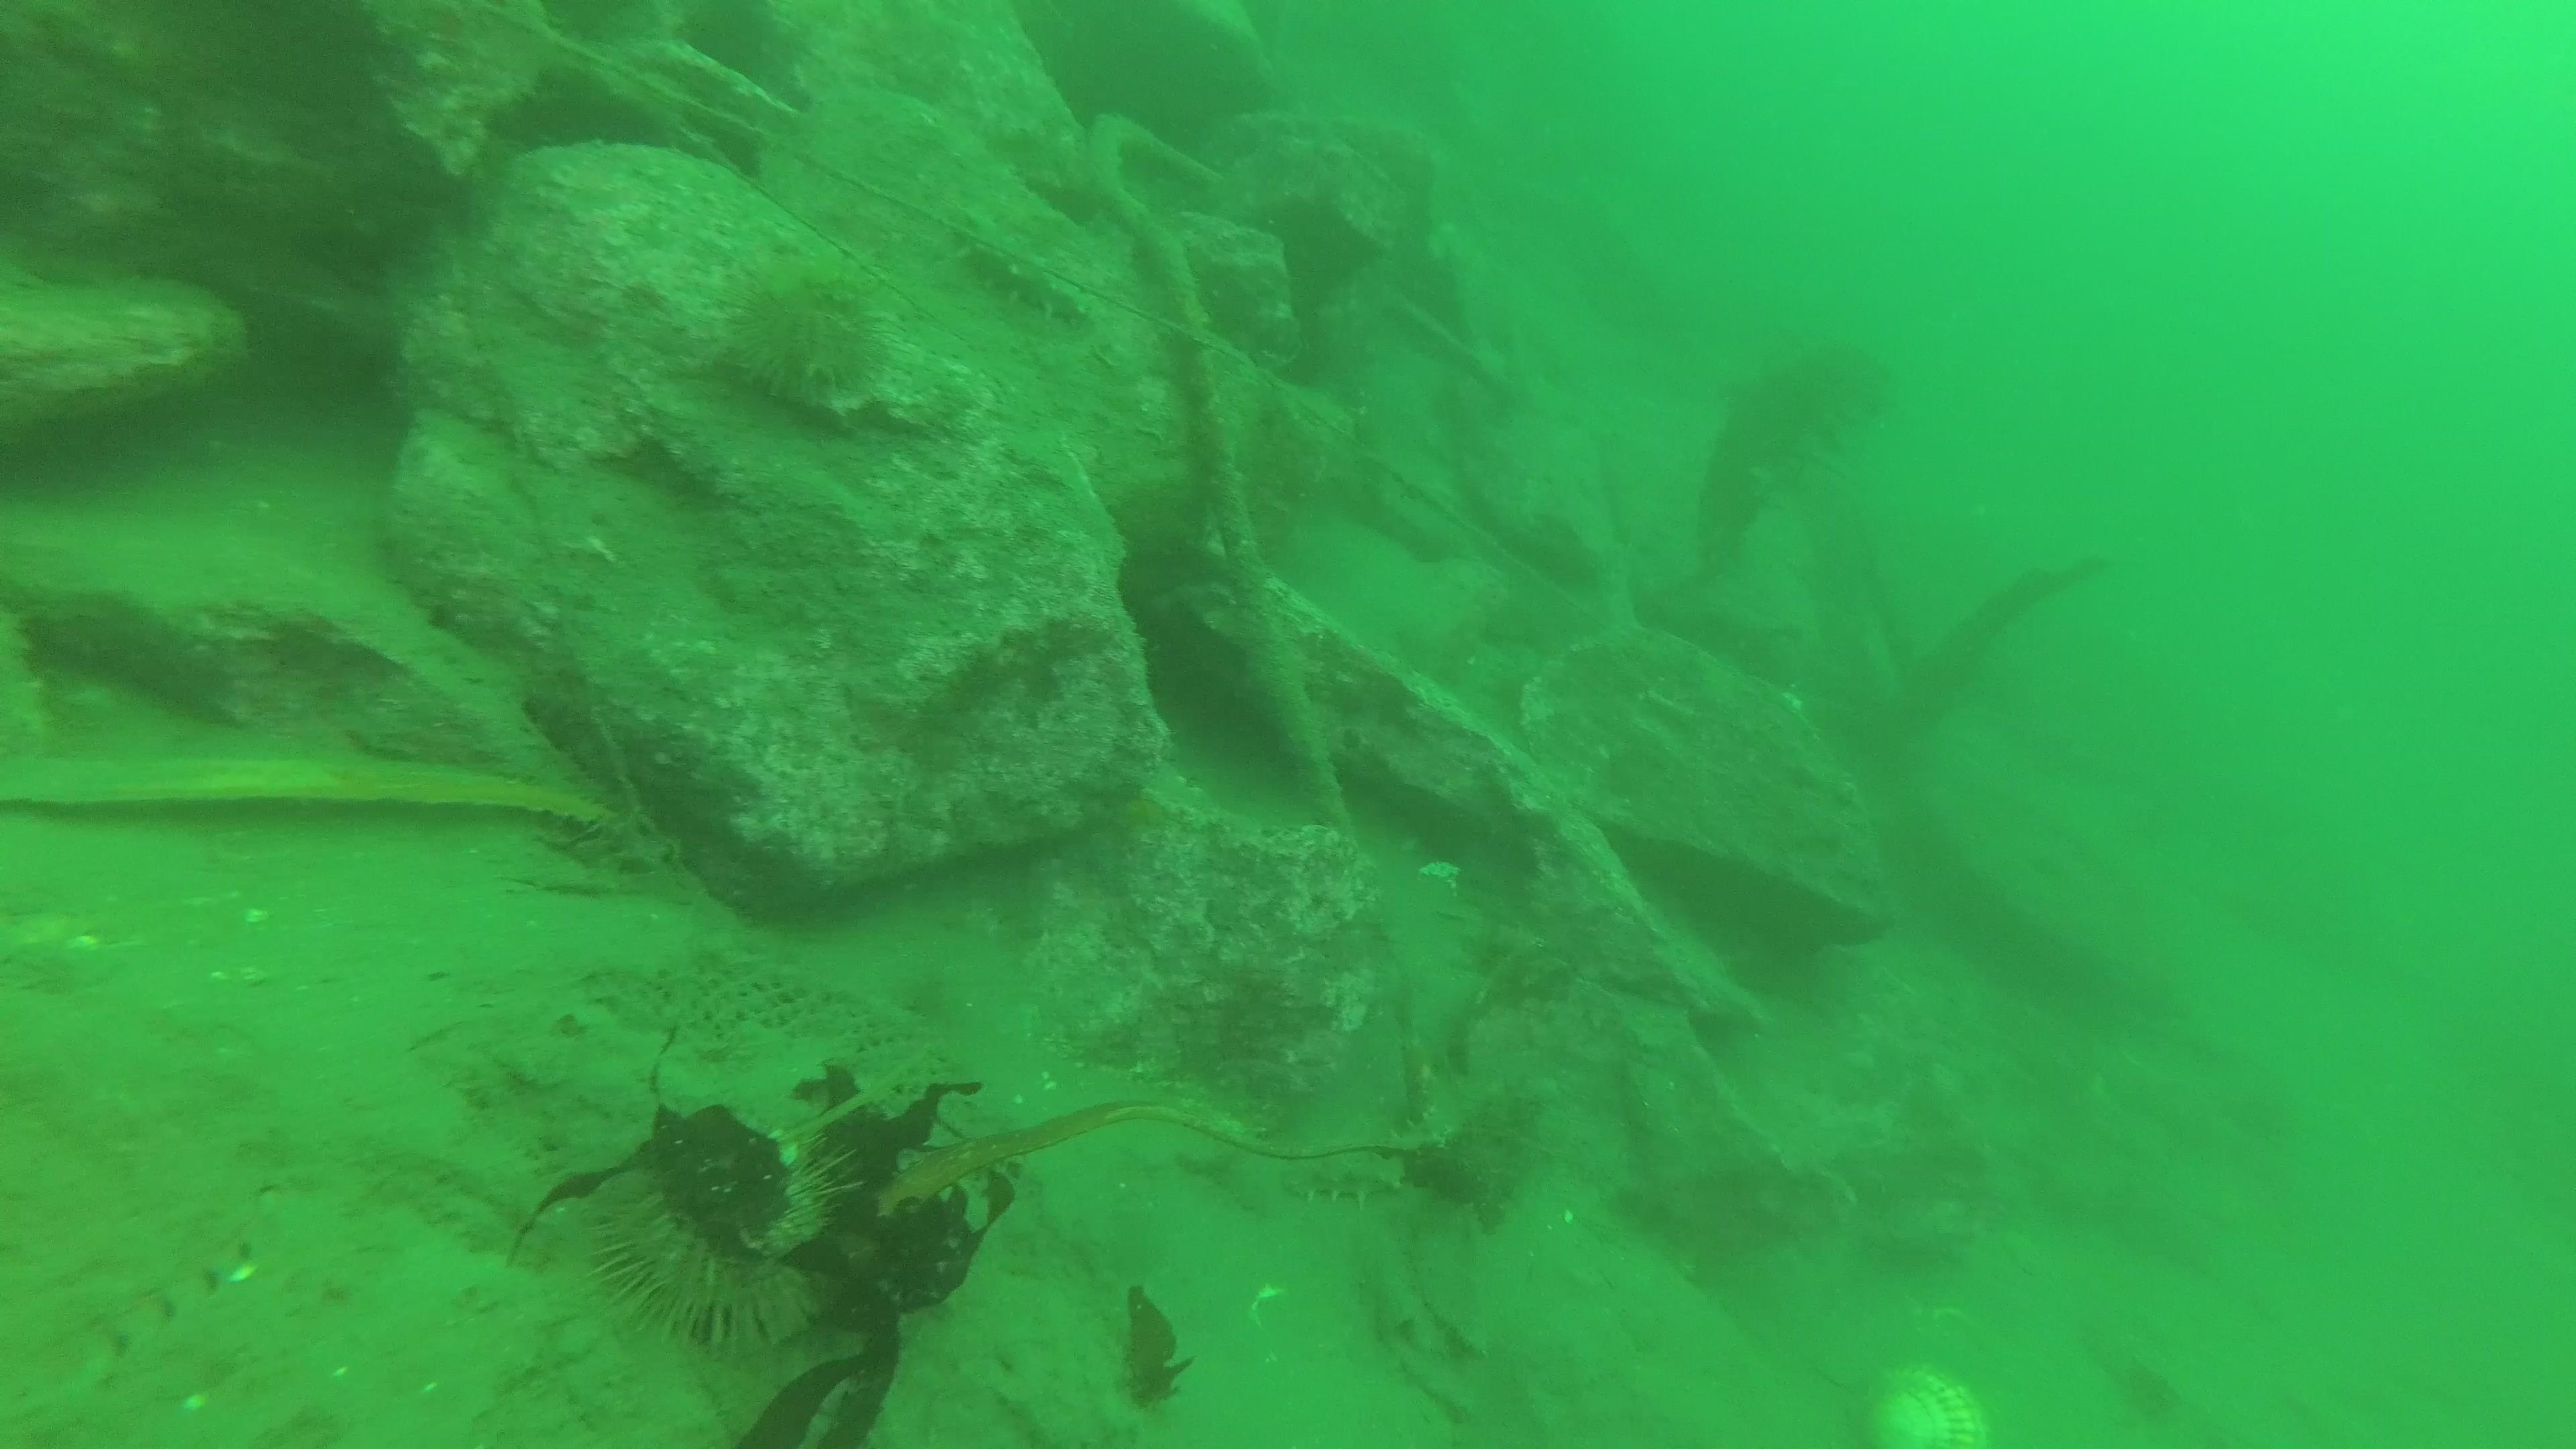echinus: (600, 1102, 867, 1350), (709, 260, 888, 412)
holothurian: (959, 226, 1093, 347), (1279, 1146, 1408, 1214)
scallop: (1851, 1366, 1999, 1445)
